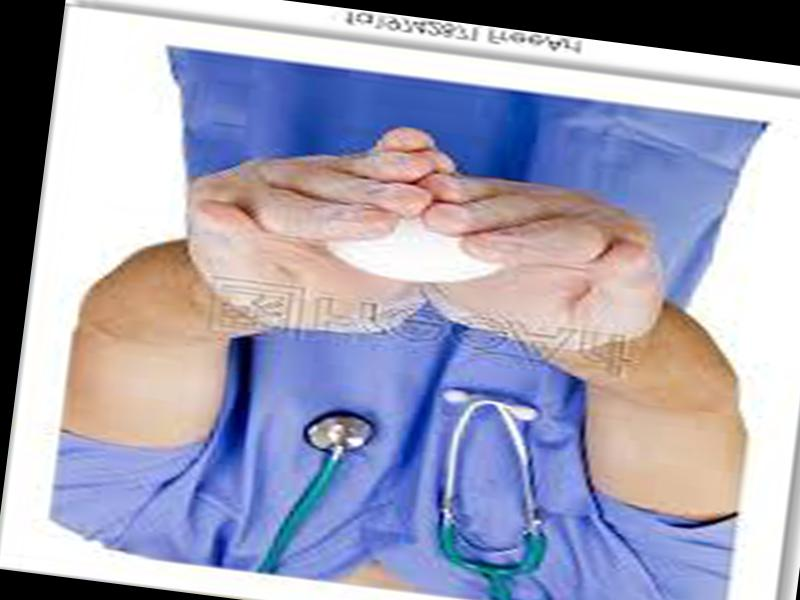Eggs: (328, 203, 509, 293)
